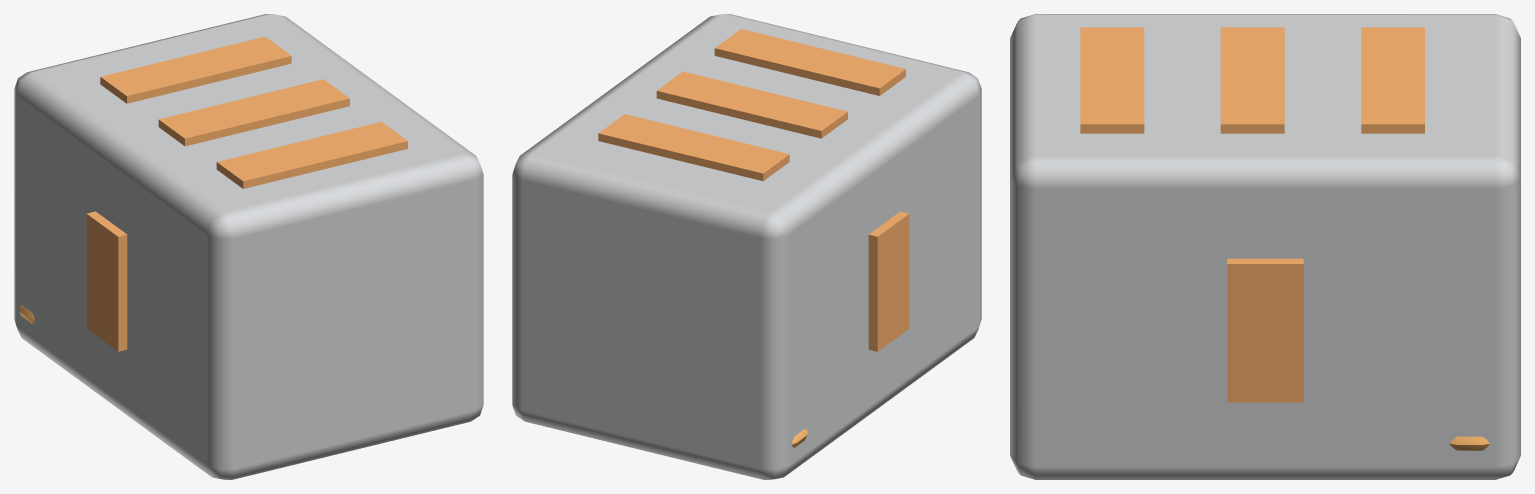
Rendered from att_muzzle_comp.glb.
The picture shows the model from 3 angles, left to right: view 1: azimuth 30°, elevation 25°; view 2: azimuth 150°, elevation 25°; view 3: azimuth 270°, elevation 25°; orthographic projection. The views are drawn at different scales.
Visible parts, largest first — view 1: MuzzleComp, Vents; view 2: MuzzleComp, Vents; view 3: MuzzleComp, Vents.
Boxes of the visible parts, x1,y1,x2,y2 form: MuzzleComp: (14,14,483,479); Vents: (86,36,407,351); MuzzleComp: (512,14,981,479); Vents: (598,29,909,351); MuzzleComp: (1010,14,1520,479); Vents: (1080,27,1424,402).
Size of the model in its own units: 0.032 by 0.0288 by 0.04.
